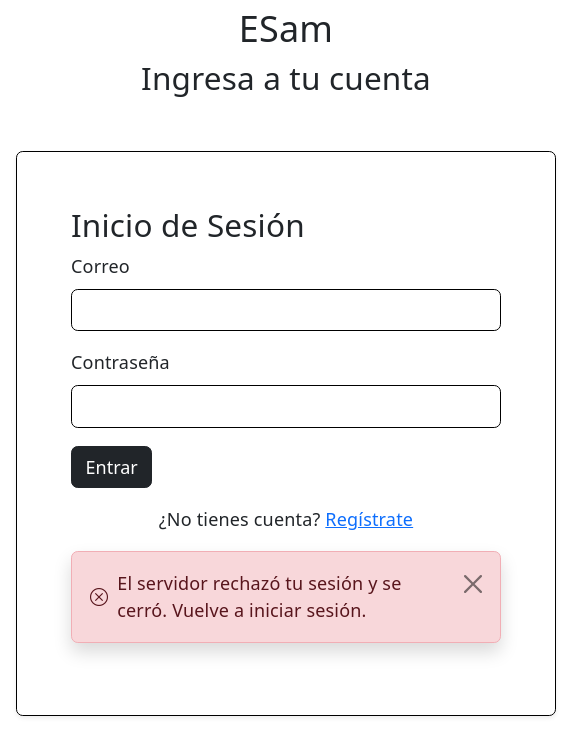
it: Login › Limpia el error de sesión rechazada al cerrarlo
Click the button named "Cerrar" at x=473, y=584, box x1=446 y1=552 x2=500 y2=615
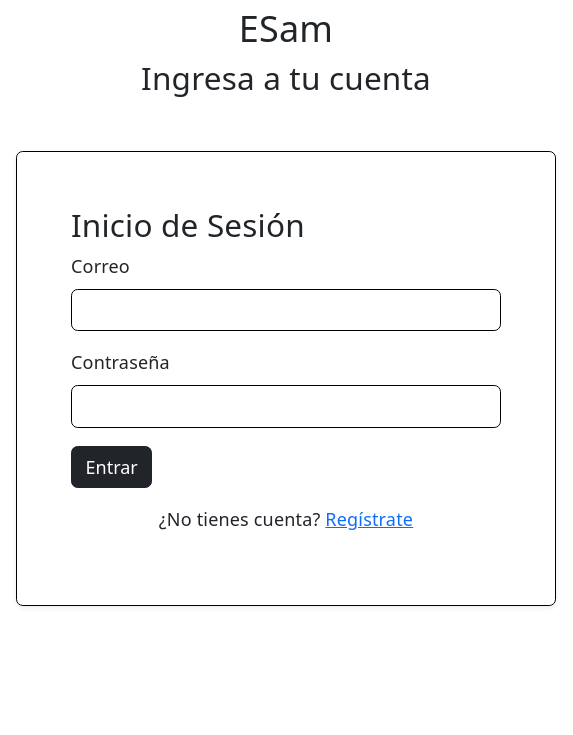
Expected: the text "El servidor rechazó tu sesión y se cerró. Vuelve a iniciar sesión." is gone
